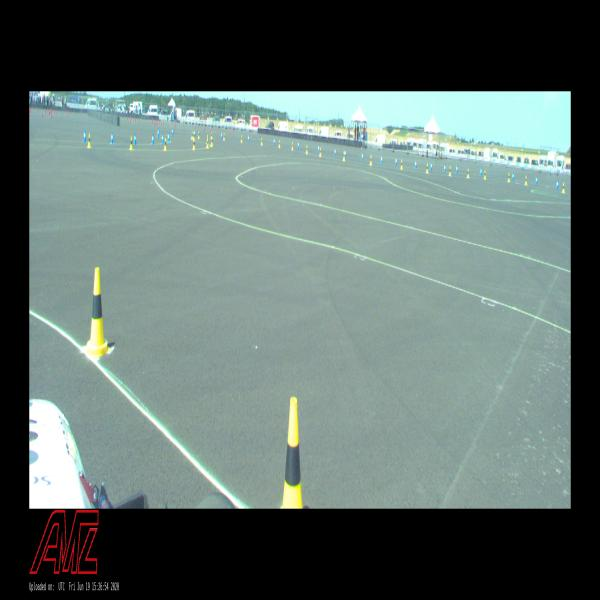blue_cone: (110, 132, 114, 143), (83, 130, 86, 142), (161, 133, 164, 144), (380, 154, 383, 164), (167, 132, 170, 142), (556, 180, 559, 189), (430, 162, 433, 171), (535, 176, 538, 185), (414, 160, 417, 168), (134, 133, 136, 145), (152, 133, 154, 144), (395, 156, 397, 166), (157, 129, 159, 138), (480, 168, 482, 176), (444, 164, 446, 172), (361, 152, 363, 160), (456, 165, 458, 173), (334, 148, 336, 156), (512, 172, 514, 180), (194, 129, 196, 136), (273, 138, 275, 145), (158, 128, 160, 135), (298, 142, 300, 148), (221, 132, 223, 138), (345, 149, 346, 158), (172, 128, 173, 136), (318, 144, 319, 152), (248, 135, 249, 142)
unknown_cone: (50, 113, 52, 119), (66, 110, 68, 116), (44, 110, 46, 115), (68, 110, 70, 115), (132, 117, 134, 121), (158, 120, 160, 124), (210, 128, 212, 132), (29, 106, 30, 113), (42, 111, 43, 117), (49, 108, 50, 114), (126, 117, 128, 120), (130, 116, 132, 119), (30, 109, 31, 114), (38, 107, 39, 112), (50, 108, 51, 113), (53, 110, 54, 115), (138, 119, 139, 124), (230, 129, 231, 134), (32, 106, 33, 110), (56, 110, 57, 114), (64, 108, 65, 112), (73, 112, 74, 116), (163, 121, 164, 125), (204, 126, 205, 130), (217, 128, 218, 132), (229, 130, 230, 134), (80, 110, 81, 114), (86, 111, 87, 115), (150, 120, 151, 124), (152, 118, 153, 122), (154, 120, 155, 124), (155, 121, 156, 125), (161, 122, 162, 126), (195, 125, 196, 129), (128, 118, 129, 121), (135, 118, 136, 121), (47, 108, 48, 110), (130, 119, 130, 123), (131, 120, 131, 123), (152, 120, 152, 124), (157, 120, 157, 124), (158, 120, 158, 123), (175, 123, 175, 127), (204, 126, 204, 130)
yellow_cone: (280, 398, 303, 508), (86, 267, 110, 359), (88, 133, 92, 148), (130, 136, 133, 150), (164, 138, 167, 150), (192, 138, 195, 150), (562, 182, 565, 193), (400, 160, 403, 170), (319, 148, 322, 157), (206, 139, 209, 148), (206, 135, 209, 144), (467, 168, 469, 178), (449, 166, 451, 176), (370, 155, 372, 165), (343, 151, 345, 161), (525, 176, 527, 185), (508, 173, 510, 182), (426, 164, 428, 173), (198, 130, 200, 139), (484, 170, 486, 179), (306, 145, 308, 154), (211, 137, 213, 146), (292, 142, 294, 150), (191, 131, 193, 139), (261, 137, 263, 145), (210, 132, 212, 139), (223, 133, 225, 140), (241, 135, 242, 143), (279, 140, 280, 148), (193, 132, 194, 140)
